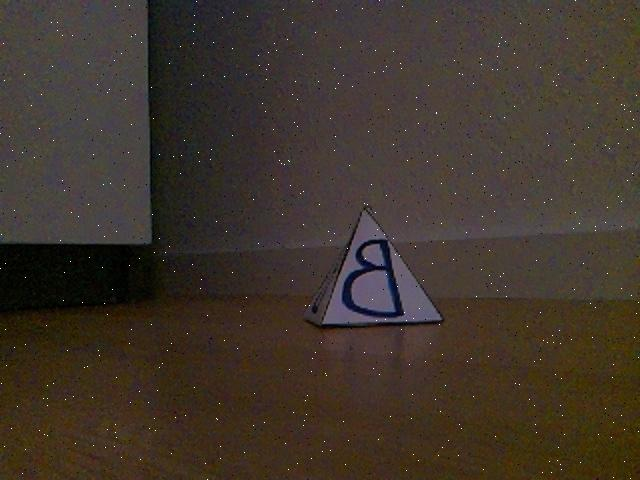B: (301, 209, 443, 329)
